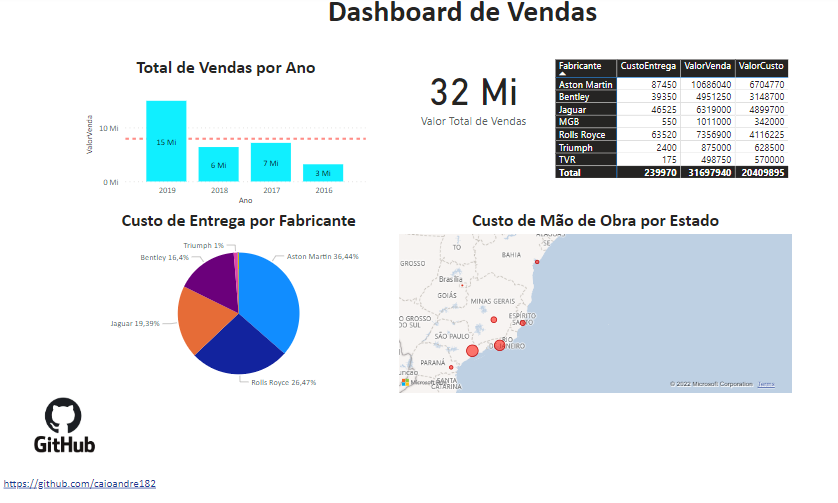

Layout of this report page (visuals, bound fields, positions):
{"tool":"powerbi","page":{"name":"Página 1","canvas":[1280,720],"ordinal":0},"visuals":[{"type":"clusteredColumnChart","title":"Total de Vendas por Ano","fields":{"Category":["VendaCarros.Ano"],"Y":["Sum(VendaCarros.ValorVenda)"]},"box":[116.4,95.5,410.3,218],"z":0},{"type":"pieChart","title":"Custo de Entrega por Fabricante","fields":{"Category":["VendaCarros.Fabricante"],"Y":["Sum(VendaCarros.CustoEntrega)"]},"box":[116.4,313.6,447.1,267],"z":1},{"type":"map","title":"Custo de Mão de Obra por Estado","fields":{"Category":["VendaCarros.Estado"],"Size":["Sum(VendaCarros.CustoMaoDeObra)"]},"box":[563.4,313.6,572,267],"z":2},{"type":"card","fields":{"Values":["Sum(VendaCarros.ValorVenda)"]},"box":[563.4,95.5,224.2,109],"z":3},{"type":"pivotTable","fields":{"Values":["Sum(VendaCarros.CustoEntrega)","Sum(VendaCarros.ValorVenda)","Sum(VendaCarros.ValorCusto)"],"Rows":["VendaCarros.Fabricante"]},"box":[787.6,95.5,492.4,183.7],"z":4},{"type":"textbox","box":[115.9,0,1096.5,71.9],"z":5},{"type":"textbox","box":[0,690.8,248.7,29.4],"z":7},{"type":"image","box":[0,556.1,180.1,134.7],"z":8}]}

Visuals, with their boxes on the page's 1280x720 design canvas (x1, y1, x2, y2). These are canvas units, not pixel positions in the 838x503 screenshot, which may show the page scaled, cropped or inside an application window:
"Total de Vendas por Ano" clusteredColumnChart: rect(116, 96, 527, 314)
"Custo de Entrega por Fabricante" pieChart: rect(116, 314, 564, 581)
"Custo de Mão de Obra por Estado" map: rect(563, 314, 1135, 581)
card - Sum(VendaCarros.ValorVenda): rect(563, 96, 788, 204)
pivotTable - Sum(VendaCarros.CustoEntrega) x Sum(VendaCarros.ValorVenda): rect(788, 96, 1280, 279)
textbox: rect(116, 0, 1212, 72)
textbox: rect(0, 691, 249, 720)
image: rect(0, 556, 180, 691)
